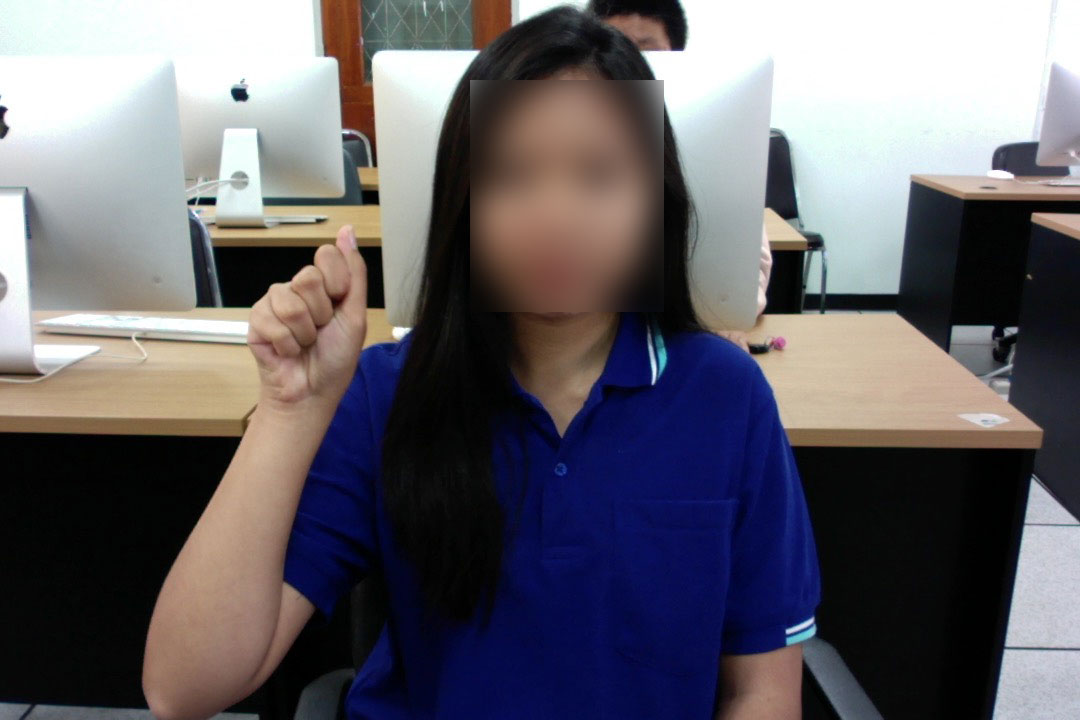or: (239, 215, 382, 423)
